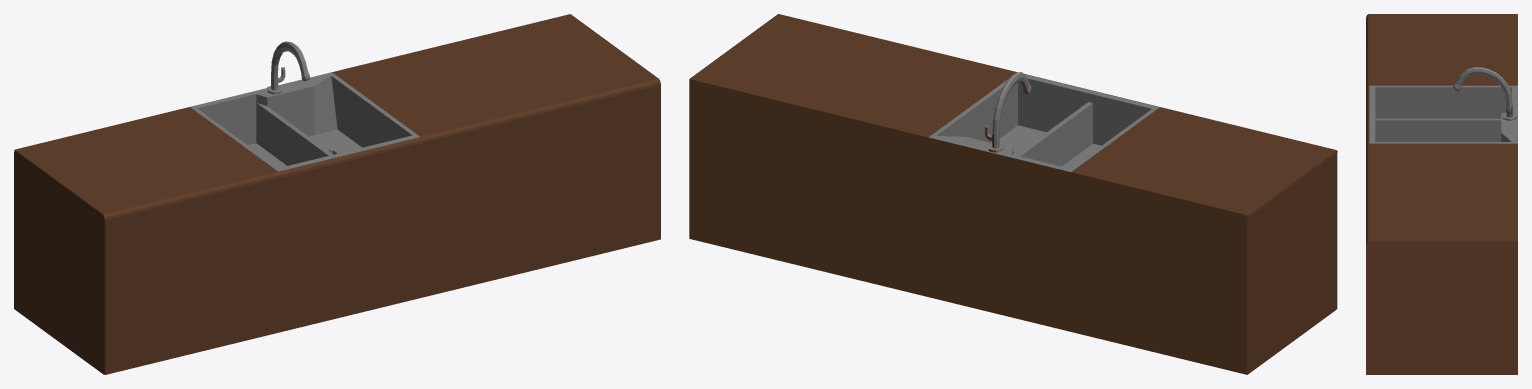
Rendered from Sink_Counter.fbx.
The picture shows the model from 3 angles, left to right: view 1: azimuth 30°, elevation 25°; view 2: azimuth 150°, elevation 25°; view 3: azimuth 270°, elevation 25°; orthographic projection. The views are drawn at different scales.
Visible parts, largest first — view 1: sink_counter; view 2: sink_counter; view 3: sink_counter.
Boxes of the visible parts, x1,y1,x2,y2 form: sink_counter: (14,14,660,374); sink_counter: (689,14,1337,374); sink_counter: (1366,14,1517,374).
Bounding box in the file's own units: 4981 × 1881 × 1402.
